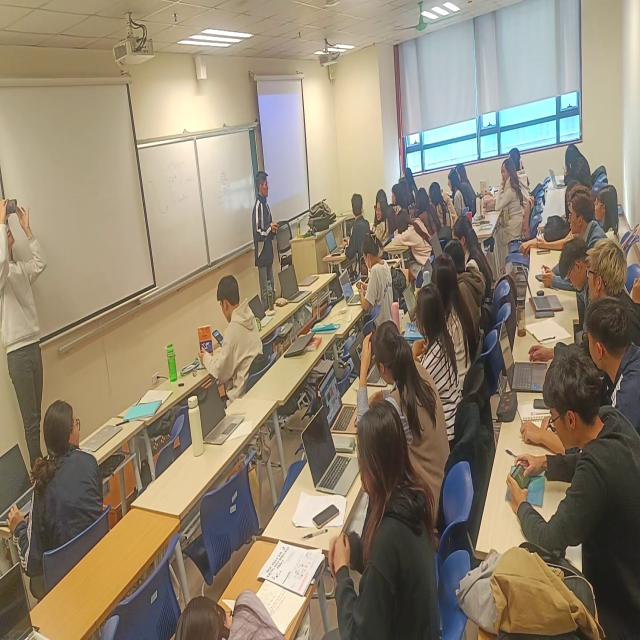raise_head: (582, 289, 640, 435), (538, 184, 610, 291), (427, 246, 481, 383), (587, 235, 640, 340), (594, 183, 623, 258), (429, 181, 455, 239), (390, 184, 407, 228)
sleep: (168, 581, 292, 640), (392, 209, 436, 276), (442, 188, 462, 231)
stand: (1, 189, 54, 482), (248, 170, 287, 323)
using_computer: (318, 318, 455, 506), (481, 158, 527, 258)
using_phone: (502, 325, 640, 633), (193, 265, 271, 406), (354, 228, 399, 336), (562, 144, 595, 196)
